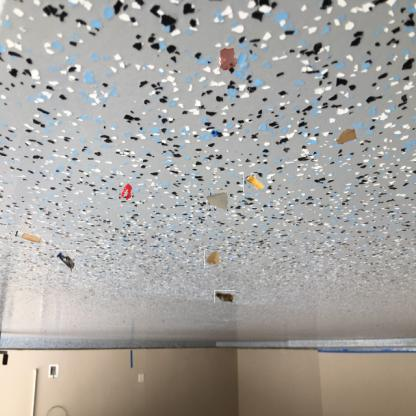dirty: (206, 189, 230, 212), (332, 126, 358, 146), (12, 228, 42, 245), (54, 250, 76, 273), (244, 172, 266, 193), (204, 250, 221, 268), (214, 290, 235, 303)
liquid: (219, 47, 239, 71), (118, 182, 132, 200)
